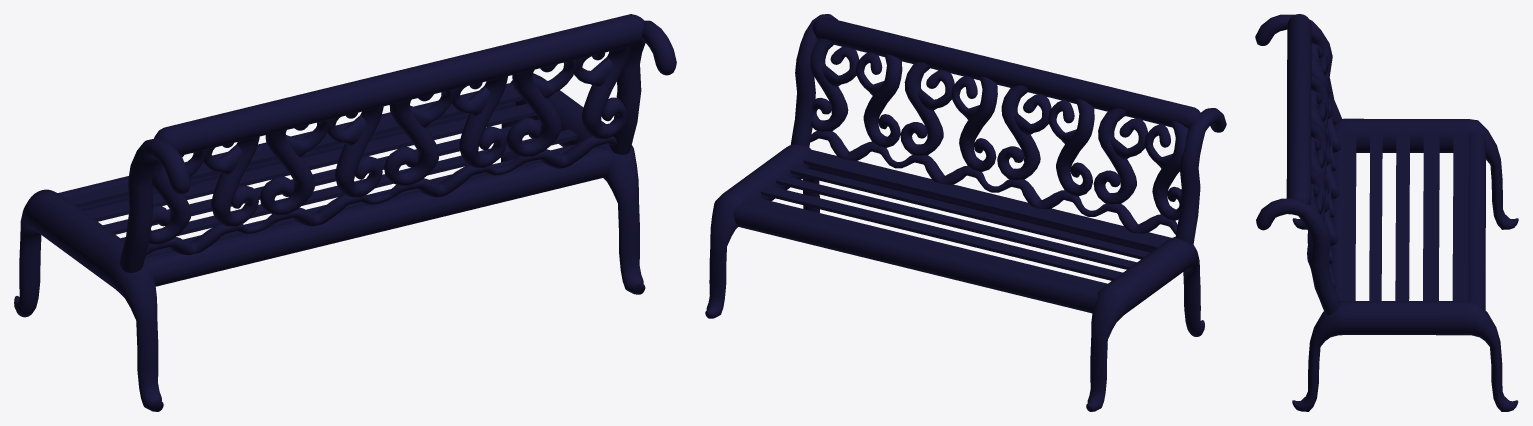
The model's file is hk_Banco.obj.
3 renders of one model, left to right at view 1: azimuth 30°, elevation 25°; view 2: azimuth 150°, elevation 25°; view 3: azimuth 270°, elevation 25°, orthographic. The views are drawn at different scales.
Visible parts, largest first — view 1: Objeto_Material; view 2: Objeto_Material; view 3: Objeto_Material.
Part boxes in pixels (x1,y1,x2,y2): Objeto_Material: (14,14,676,411); Objeto_Material: (705,14,1226,411); Objeto_Material: (1255,14,1518,411).
Bounding box in the file's own units: 1.11 × 0.5755 × 0.6293.
